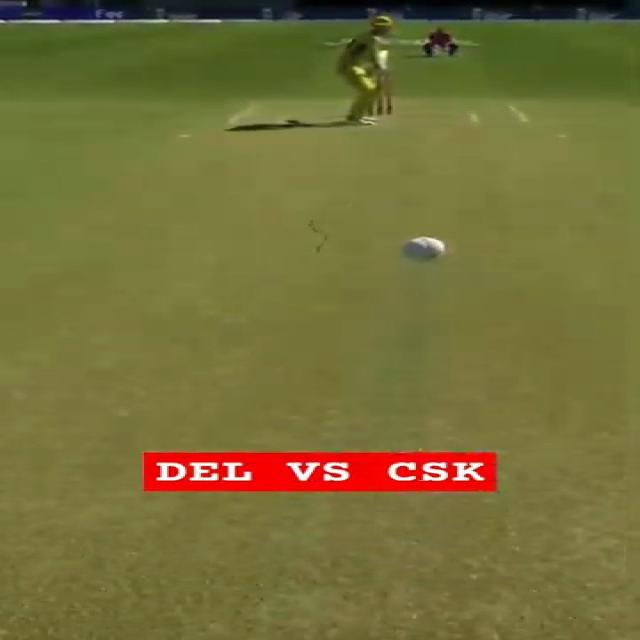ball: (398, 236, 450, 262)
